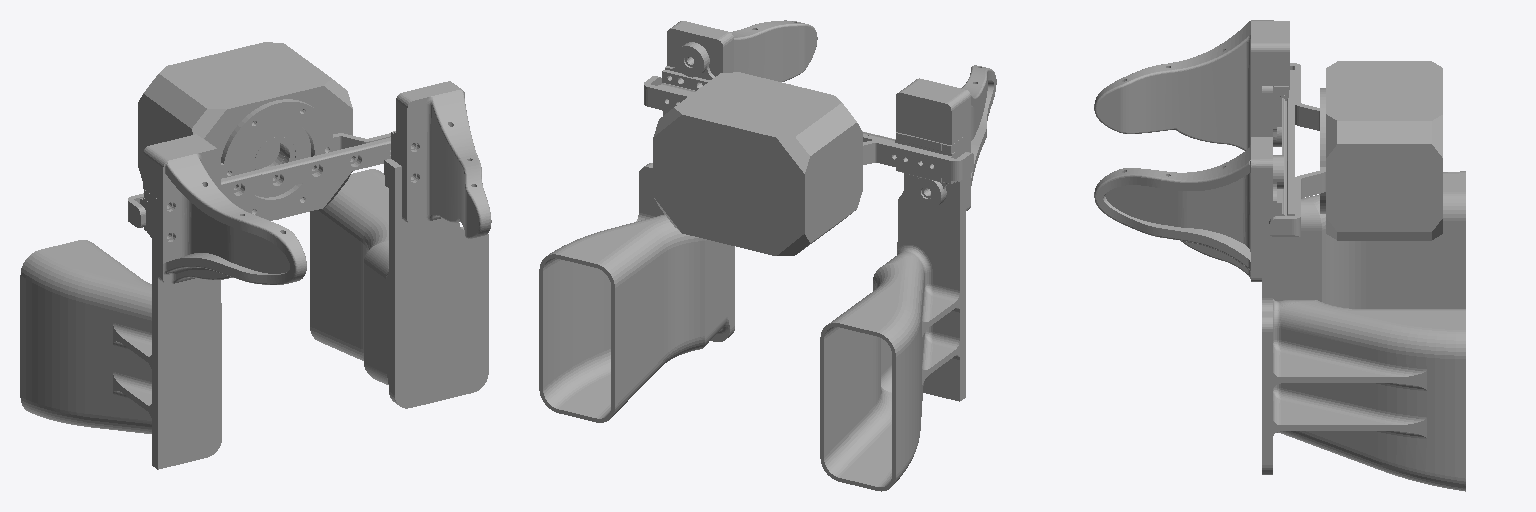
URDF robot description (openumi_test_export3):
<?xml version="1.0"?>
<robot name="openumi_test_export3">

  <material name="silver">
    <color rgba="0.700 0.700 0.700 1.000"/>
  </material>

  <link name="base_link">
    <inertial>
      <origin xyz="2.5437823837415984e-05 0.023944713415808627 4.60128742578899e-07" rpy="0 0 0"/>
      <mass value="0.876668581434838"/>
      <inertia ixx="0.000655" iyy="0.00079" izz="0.00103" ixy="1e-06" iyz="0.0" ixz="-0.0"/>
    </inertial>
    <visual>
      <origin xyz="0 0 0" rpy="0 0 0"/>
      <geometry>
        <mesh filename="meshes/base_link.stl" scale="0.001 0.001 0.001"/>
      </geometry>
      <material name="silver"/>
    </visual>
    <collision>
      <origin xyz="0 0 0" rpy="0 0 0"/>
      <geometry>
        <mesh filename="meshes/base_link.stl" scale="0.001 0.001 0.001"/>
      </geometry>
    </collision>
  </link>

  <link name="right_jaw_1">
    <inertial>
      <origin xyz="-0.011671666802097788 0.004820774216525199 -0.05115973160753859" rpy="0 0 0"/>
      <mass value="0.7920390752045255"/>
      <inertia ixx="0.00261" iyy="0.001793" izz="0.001082" ixy="-0.000134" iyz="0.000771" ixz="0.000138"/>
    </inertial>
    <visual>
      <origin xyz="-0.0775 0.020001 0.000001" rpy="0 0 0"/>
      <geometry>
        <mesh filename="meshes/right_jaw_1.stl" scale="0.001 0.001 0.001"/>
      </geometry>
      <material name="silver"/>
    </visual>
    <collision>
      <origin xyz="-0.0775 0.020001 0.000001" rpy="0 0 0"/>
      <geometry>
        <mesh filename="meshes/right_jaw_1.stl" scale="0.001 0.001 0.001"/>
      </geometry>
    </collision>
  </link>

  <link name="left_jaw_1">
    <inertial>
      <origin xyz="0.014210758546782998 0.004371650851500427 -0.04400310769786983" rpy="0 0 0"/>
      <mass value="0.7420544312057148"/>
      <inertia ixx="0.002596" iyy="0.001774" izz="0.001013" ixy="0.000127" iyz="0.000773" ixz="-7.6e-05"/>
    </inertial>
    <visual>
      <origin xyz="0.0775 0.020001 0.000001" rpy="0 0 0"/>
      <geometry>
        <mesh filename="meshes/left_jaw_1.stl" scale="0.001 0.001 0.001"/>
      </geometry>
      <material name="silver"/>
    </visual>
    <collision>
      <origin xyz="0.0775 0.020001 0.000001" rpy="0 0 0"/>
      <geometry>
        <mesh filename="meshes/left_jaw_1.stl" scale="0.001 0.001 0.001"/>
      </geometry>
    </collision>
  </link>

  <joint name="right_jaw_prismatic" type="prismatic">
    <origin xyz="0.0775 -0.020001 -0.000001" rpy="0 0 0"/>
    <parent link="base_link"/>
    <child link="right_jaw_1"/>
    <axis xyz="-1 0 0"/>
    <limit lower="0.0" upper="0.044339" effort="100" velocity="100"/>
  </joint>

  <joint name="left_jaw_prismatic" type="prismatic">
    <origin xyz="-0.0775 -0.020001 -0.000001" rpy="0 0 0"/>
    <parent link="base_link"/>
    <child link="left_jaw_1"/>
    <axis xyz="-1 0 0"/>
    <limit lower="-0.044339" upper="0.0" effort="100" velocity="100"/>
  </joint>

</robot>

--- Facts derived from the render (not from the file) ---
3 views of the same robot in one strip: view 1: azimuth 30°, elevation 25°; view 2: azimuth 150°, elevation 25°; view 3: azimuth 270°, elevation 25° (orthographic).
Robot: openumi_test_export3 — 3 links, 2 joints (2 prismatic); root link base_link; default pose: every joint at zero.
Visible links, largest first — view 1: left_jaw_1, right_jaw_1, base_link; view 2: right_jaw_1, left_jaw_1, base_link; view 3: right_jaw_1, left_jaw_1, base_link.
Boxes of the visible links, bbox=[...] form: left_jaw_1: bbox=[20, 134, 306, 469]; right_jaw_1: bbox=[310, 81, 491, 408]; base_link: bbox=[128, 42, 390, 227]; right_jaw_1: bbox=[539, 20, 817, 422]; left_jaw_1: bbox=[820, 65, 996, 491]; base_link: bbox=[644, 72, 973, 255]; right_jaw_1: bbox=[1094, 137, 1465, 491]; left_jaw_1: bbox=[1094, 20, 1465, 308]; base_link: bbox=[1269, 61, 1442, 240].
Bounding box of the posed robot: 0.1885 × 0.1688 × 0.161 m (x, y, z).
3 mesh visuals loaded from 3 distinct referenced files (3 binary STL).
